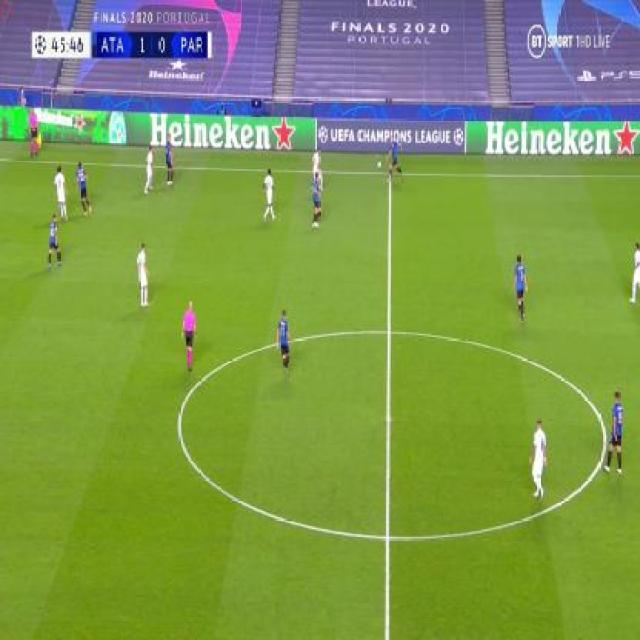ball: (376, 158, 381, 169)
player: (606, 389, 626, 477), (529, 413, 548, 501), (181, 298, 198, 372), (135, 238, 152, 309), (513, 252, 530, 323), (276, 304, 292, 375), (75, 159, 94, 216), (261, 166, 278, 223), (53, 163, 70, 220), (47, 214, 63, 271), (627, 238, 640, 304), (144, 133, 157, 192), (28, 107, 42, 158), (309, 181, 323, 229), (162, 136, 175, 187), (386, 140, 403, 179), (311, 144, 324, 192)
